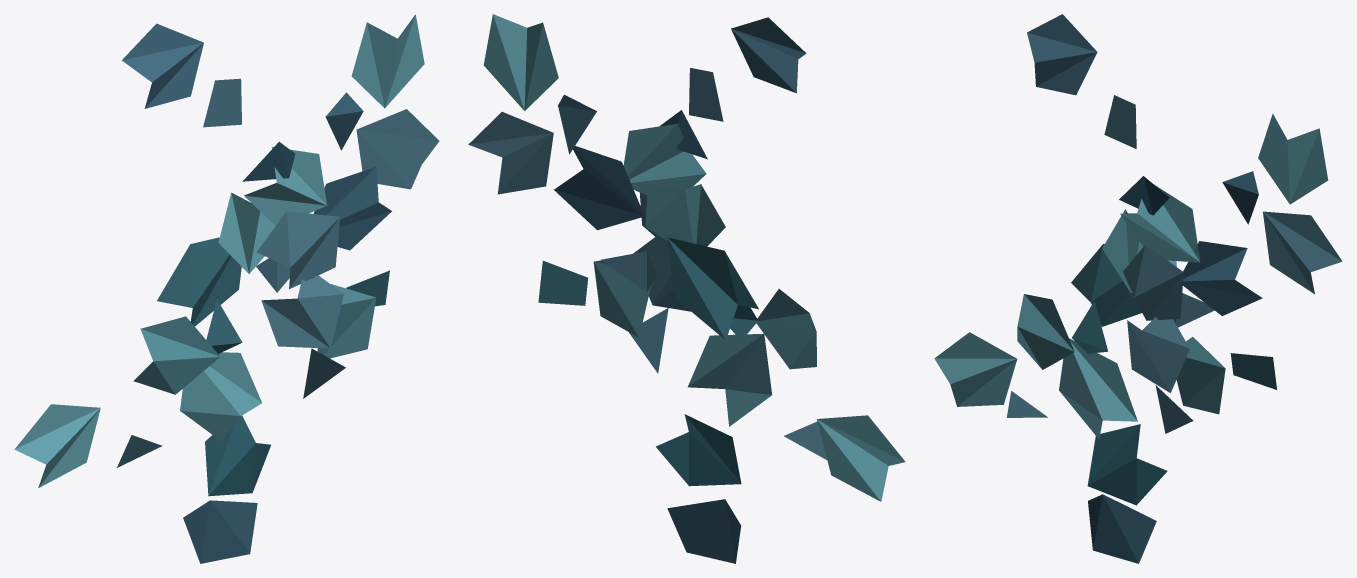
File: SM_Env_Ivy_01.fbx
3 views of the same model, side by side, from view 1: azimuth 30°, elevation 25°; view 2: azimuth 150°, elevation 25°; view 3: azimuth 330°, elevation 25° (orthographic). The views are drawn at different scales.
Parts seen in each view (by area): view 1: SM_Env_Ivy_01; view 2: SM_Env_Ivy_01; view 3: SM_Env_Ivy_01.
Part boxes in pixels (<box>): SM_Env_Ivy_01: <box>14,14,439,563</box>; SM_Env_Ivy_01: <box>468,14,905,563</box>; SM_Env_Ivy_01: <box>934,14,1342,563</box>.
Size of the model in its own units: 1.79 by 2.19 by 0.2552.
1 material, 1 textured.
